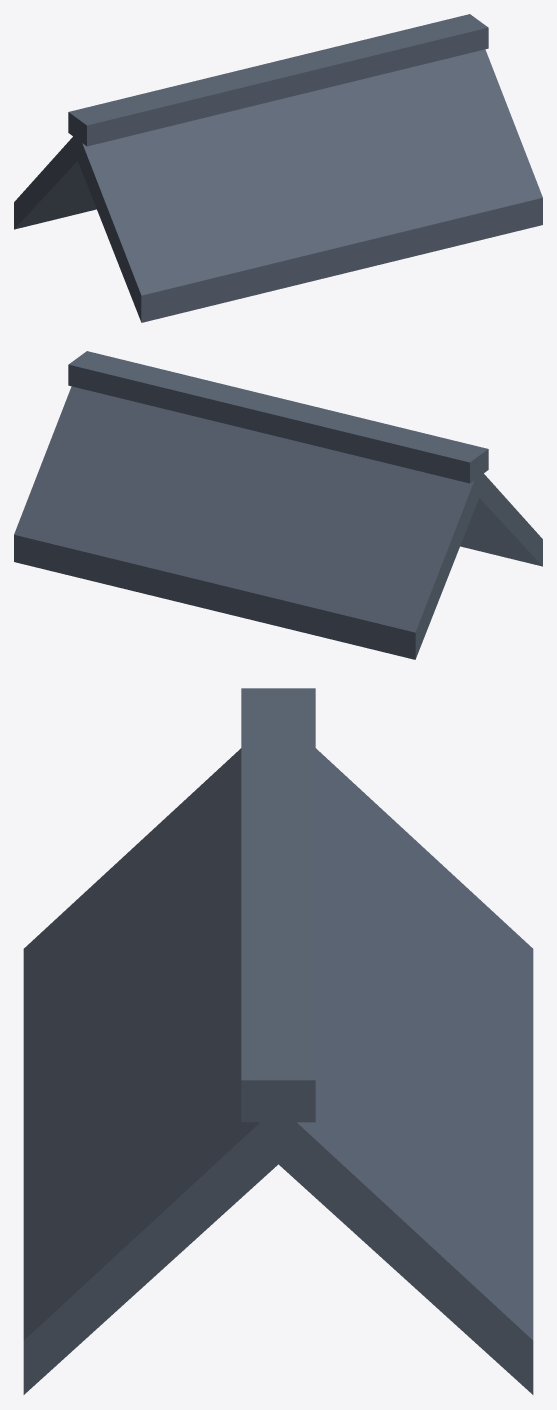
Rendered from roof_ridge_slate_lod0.glb.
3 views of the same model, one above another, from view 1: azimuth 30°, elevation 25°; view 2: azimuth 150°, elevation 25°; view 3: azimuth 270°, elevation 25° (orthographic). The views are drawn at different scales.
Visible parts, largest first — view 1: roof_ridge_slate; view 2: roof_ridge_slate; view 3: roof_ridge_slate.
Boxes of the visible parts, left/top/right/bottom form: roof_ridge_slate: left=14, top=14, right=542, bottom=322; roof_ridge_slate: left=14, top=351, right=542, bottom=659; roof_ridge_slate: left=23, top=688, right=533, bottom=1394.
Bounding box in the file's own units: 2 × 0.75 × 1.1.
